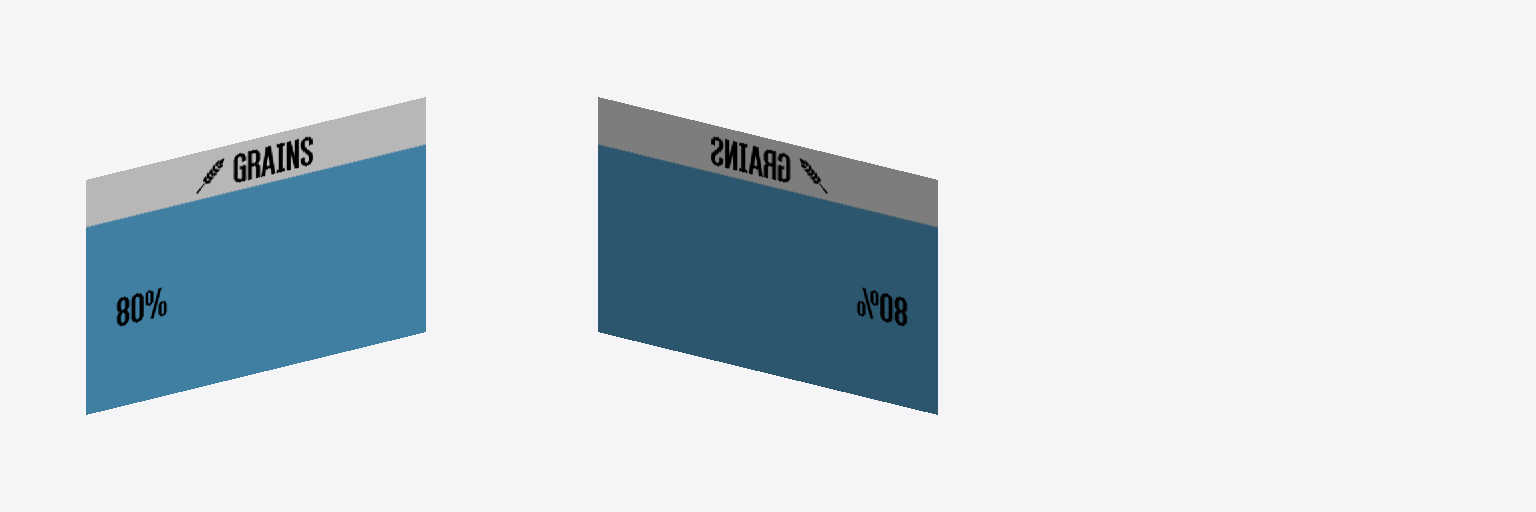
3 renders of one model, left to right at view 1: azimuth 30°, elevation 25°; view 2: azimuth 150°, elevation 25°; view 3: azimuth 270°, elevation 25°, orthographic.
Size of the model in its own units: 394 by 260 by 0.005.
Materials: 1 (1 with a texture image).